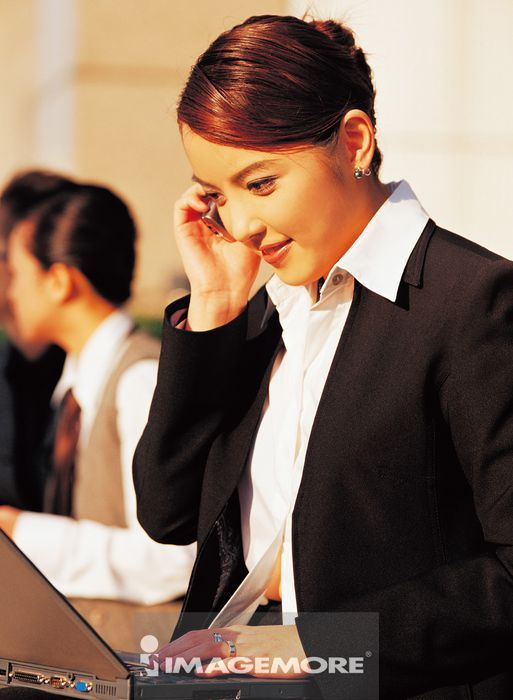talk: (169, 145, 309, 327)
